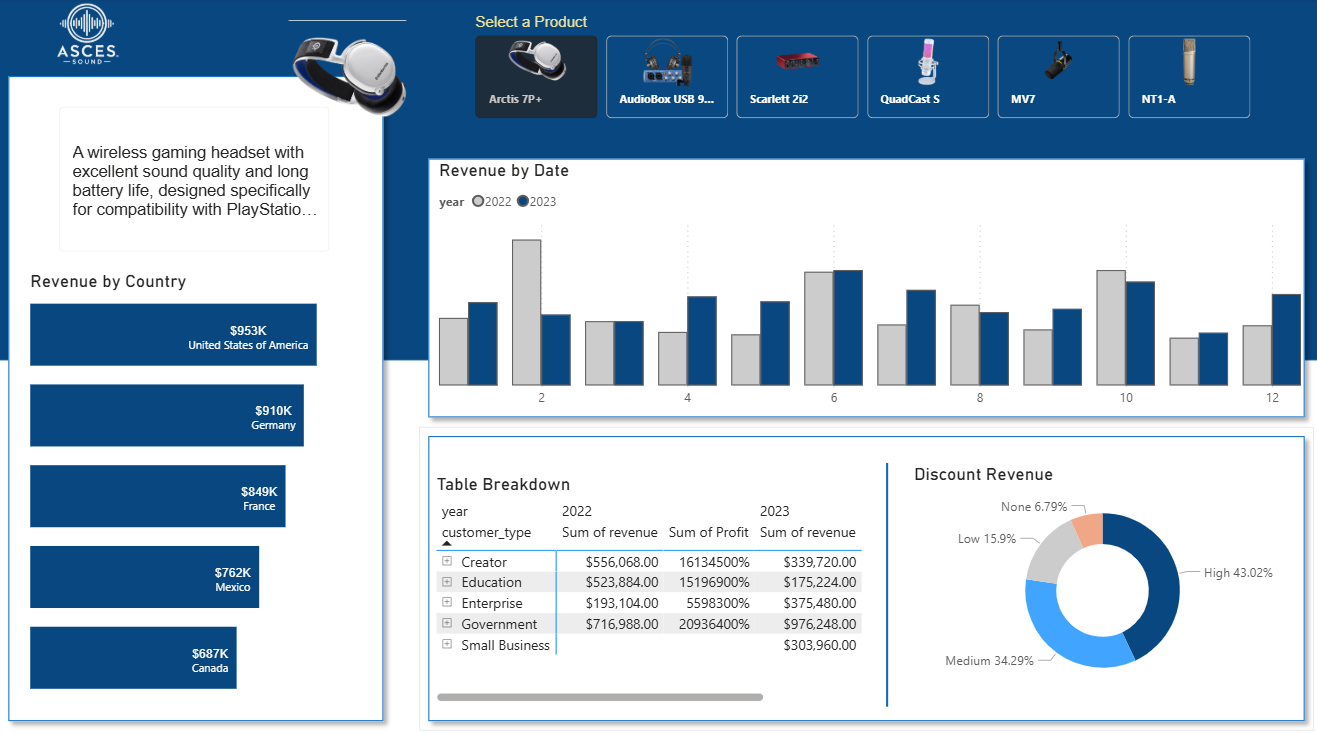

Layout of this report page (visuals, bound fields, positions):
{"tool":"powerbi","page":{"name":"Page 1","canvas":[1280,720],"ordinal":0},"visuals":[{"type":"shape","box":[0,0,1280.3,349.9],"z":0},{"type":"shape","box":[0,66.4,380,640.6],"z":1000},{"type":"shape","box":[405.4,146,863.8,267.8],"z":2000},{"type":"shape","box":[405.4,413.8,863.8,293.2],"z":3000},{"type":"image","box":[0,0,164.1,66.4],"z":4000},{"type":"advancedSlicerVisual","title":"Select a Product","fields":{"Values":["Query1.image_url"]},"box":[454.8,14.5,761.3,107.4],"z":5000},{"type":"cardVisual","fields":{"Data":["Min(Query1.product)"]},"box":[267.8,10.9,137.5,135.1],"z":6000},{"type":"cardVisual","fields":{"Data":["Min(Query1.description)"]},"box":[41,88.1,283.5,174.9],"z":7000},{"type":"clusteredBarChart","title":"Revenue by Country","fields":{"Category":["Query1.country"],"Y":["Sum(Query1.revenue)"]},"box":[57.9,263,266.6,333],"z":8000},{"type":"clusteredColumnChart","title":"Revenue by Date","fields":{"Series":["Query1.year"],"Category":["Query1.date.Variation.Date Hierarchy.Day"],"Y":["Sum(Query1.revenue)"]},"box":[419.8,155.6,842.1,248.5],"z":9000},{"type":"donutChart","title":"Discount Revenue","fields":{"Y":["Sum(Query1.revenue)"],"Category":["Query1.sale_discount_band"]},"box":[878.3,448.8,374,225.6],"z":10000},{"type":"pivotTable","title":"Table Breakdown","fields":{"Rows":["Query1.customer_type","Query1.product"],"Columns":["Query1.year"],"Values":["Sum(Query1.revenue)","Sum(Query1.Profit)"]},"box":[417.4,458.4,419.8,225.6],"z":11000},{"type":"shape","box":[802.3,448.8,109.8,235.3],"z":12000}]}

Visuals, with their boxes in screenshot pixels (x1, y1, x2, y2), scaled from the page's 1280x720 canvas onto the 1317x733 screenshot:
shape: <region>0, 0, 1316, 356</region>
shape: <region>0, 68, 391, 720</region>
shape: <region>417, 149, 1306, 421</region>
shape: <region>417, 421, 1306, 720</region>
image: <region>0, 0, 169, 68</region>
"Select a Product" advancedSlicerVisual: <region>468, 15, 1251, 124</region>
cardVisual - Min(Query1.product): <region>276, 11, 417, 149</region>
cardVisual - Min(Query1.description): <region>42, 90, 334, 268</region>
"Revenue by Country" clusteredBarChart: <region>60, 268, 334, 607</region>
"Revenue by Date" clusteredColumnChart: <region>432, 158, 1298, 411</region>
"Discount Revenue" donutChart: <region>904, 457, 1288, 687</region>
"Table Breakdown" pivotTable: <region>429, 467, 861, 696</region>
shape: <region>825, 457, 938, 696</region>
